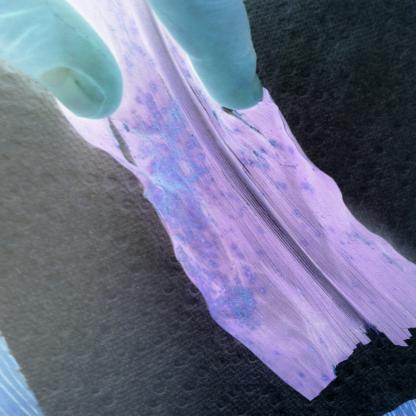corn rust leaf: (124, 100, 416, 416)
